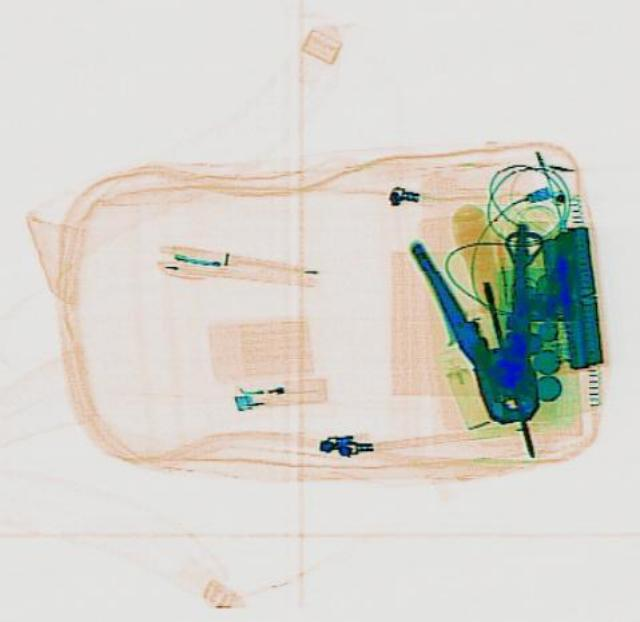Pliers: (408, 219, 576, 433)
